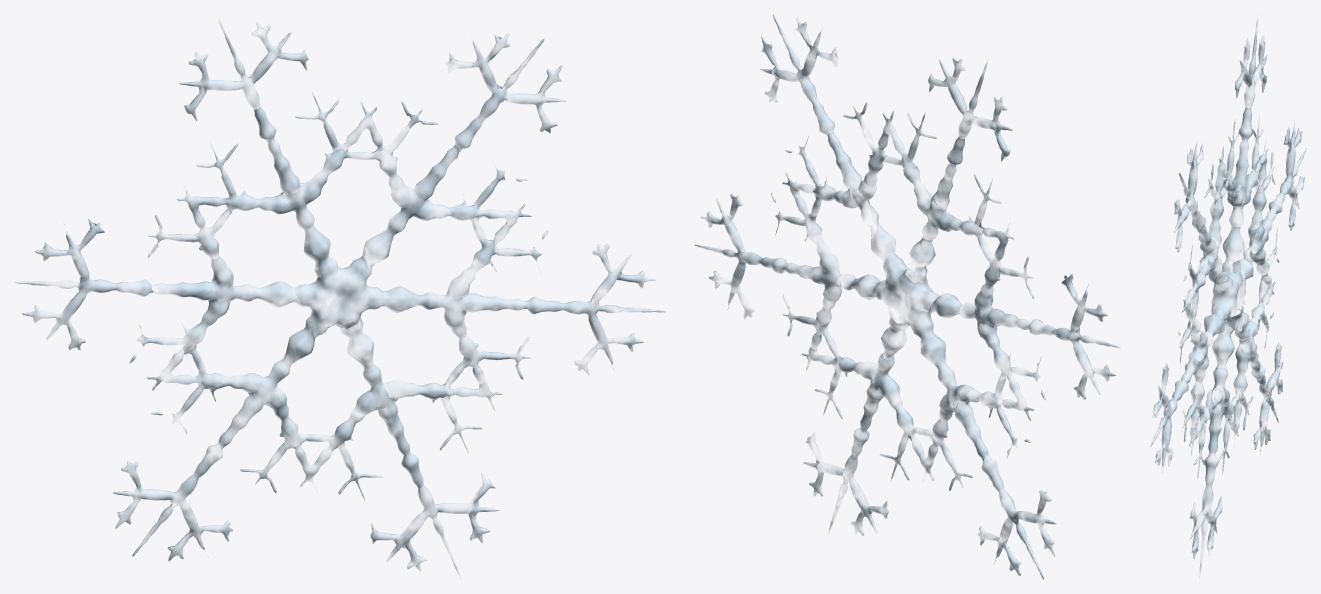
Rendered from snowflake.glb.
3 views of the same model, side by side, from view 1: azimuth 30°, elevation 25°; view 2: azimuth 150°, elevation 25°; view 3: azimuth 270°, elevation 25° (orthographic). The views are drawn at different scales.
Visible parts, largest first — view 1: Snowflake_low; view 2: Snowflake_low; view 3: Snowflake_low.
Boxes of the visible parts, box(x1,y1,x2,y2) form: Snowflake_low: box(15, 18, 664, 578); Snowflake_low: box(694, 14, 1120, 579); Snowflake_low: box(1150, 18, 1306, 576).
Bounding box in the file's own units: 790 × 802 × 236.
Materials: 1 (1 with a texture image).
